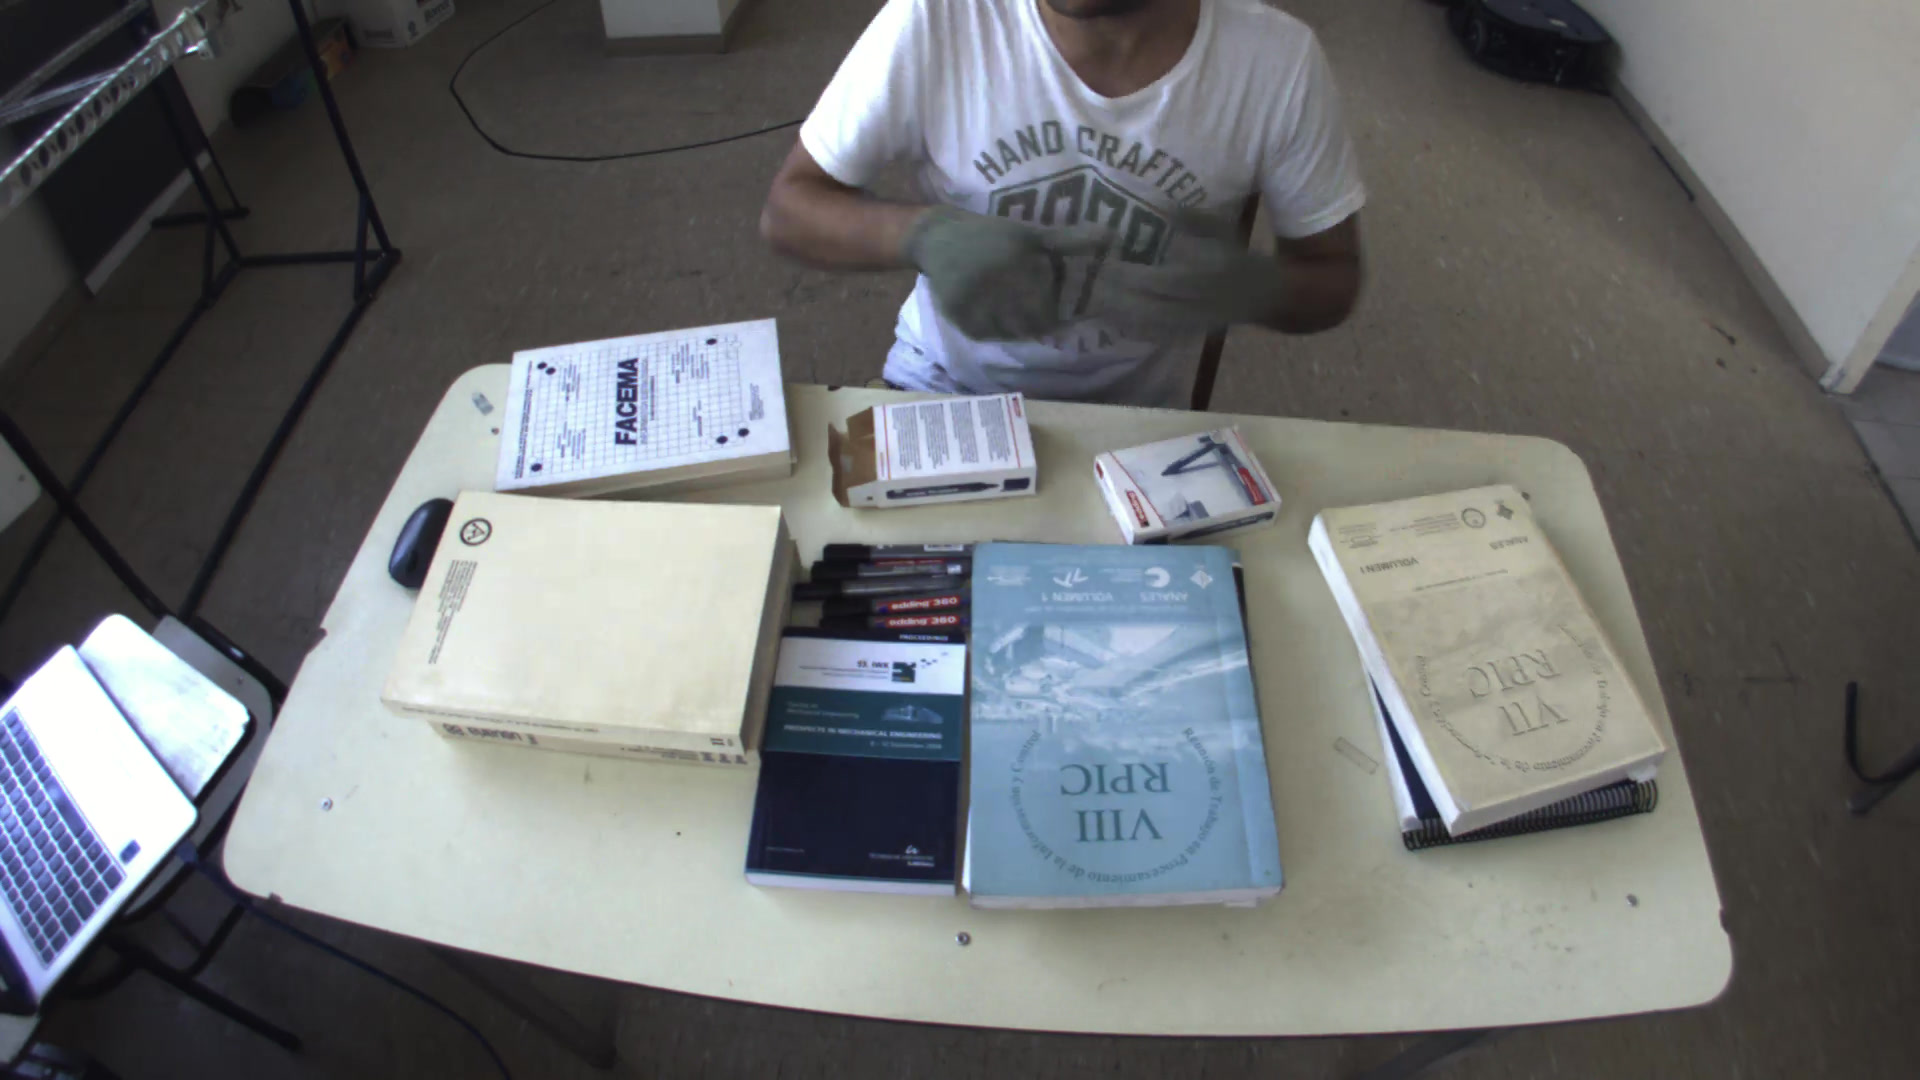hand: (1116, 202, 1302, 340), (911, 195, 1087, 336)
